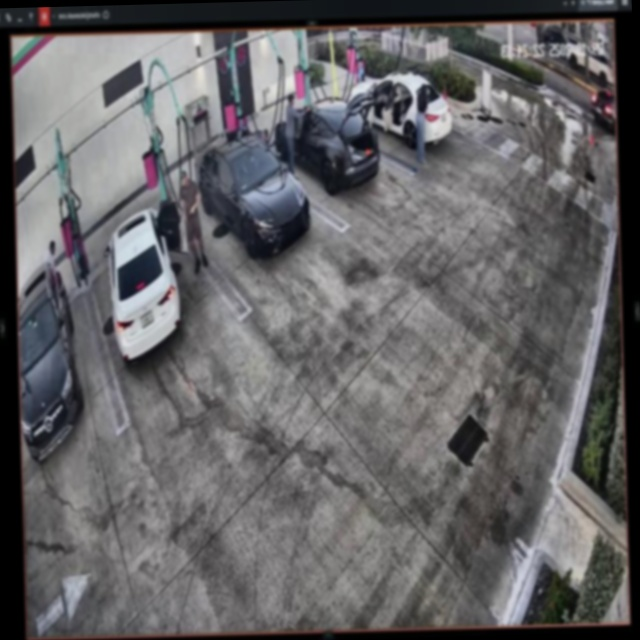Car: (200, 131, 310, 267), (108, 194, 184, 372), (275, 91, 379, 200), (348, 68, 453, 152)
